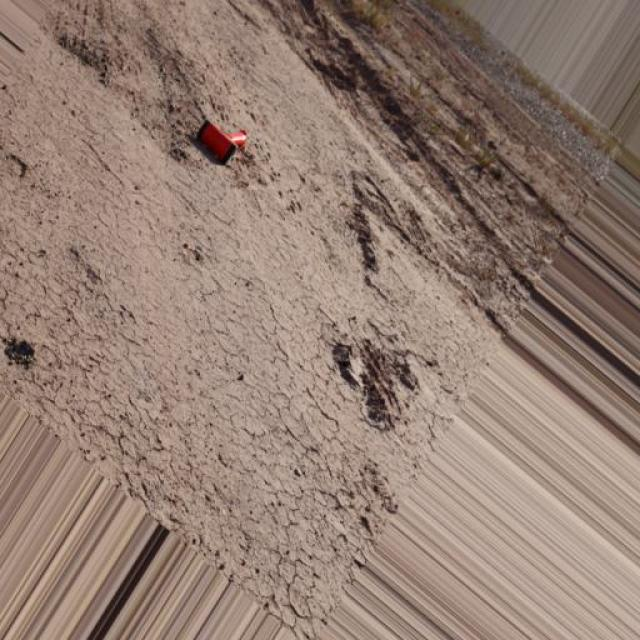mallet: (195, 118, 247, 164)
